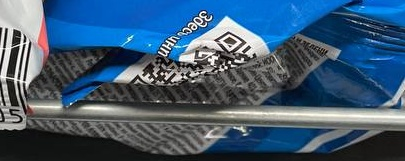2d: (126, 31, 259, 87)
